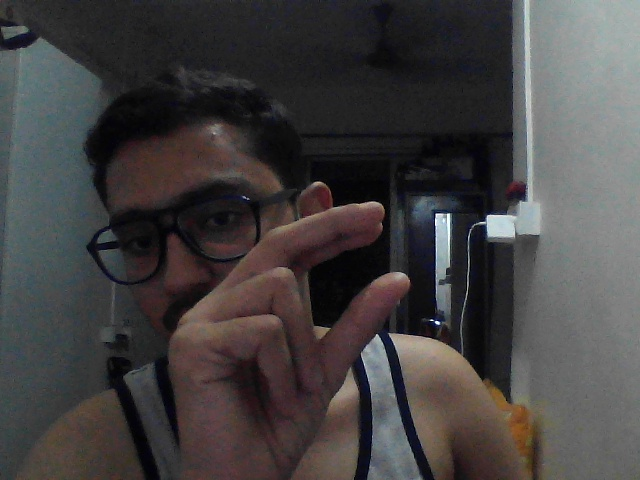No: (159, 177, 438, 453)
